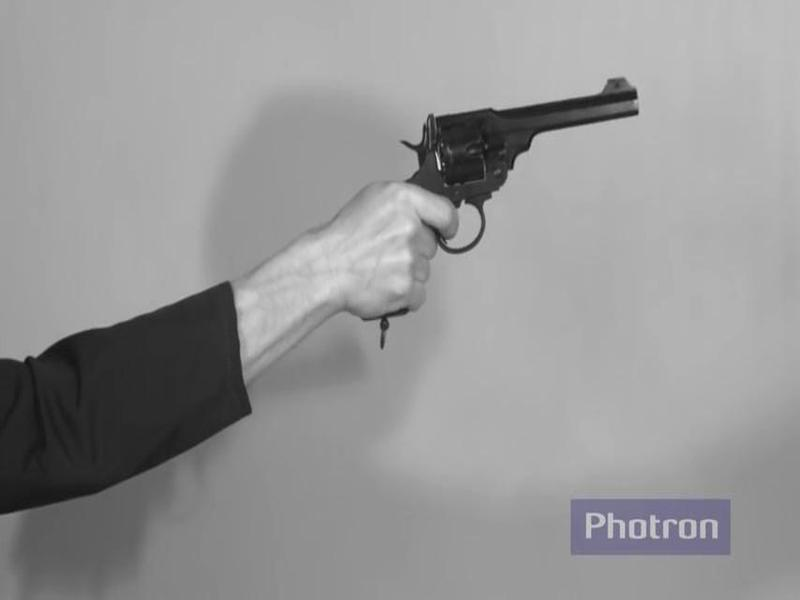Revolver: (356, 44, 657, 354)
